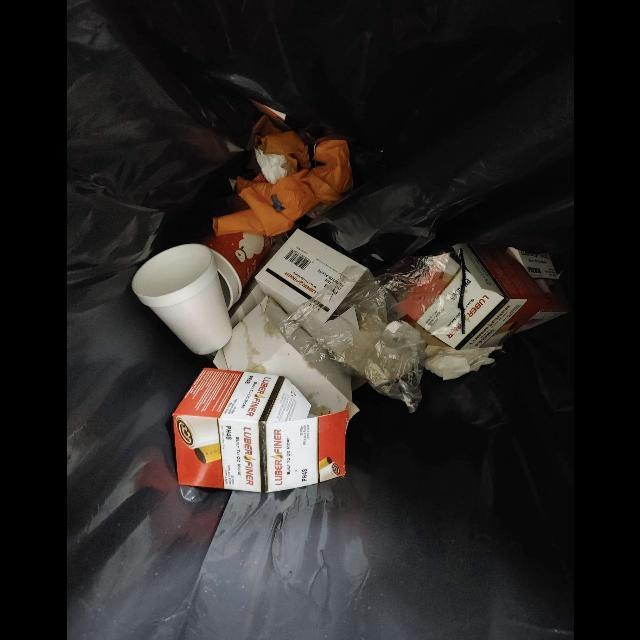cardboard: (171, 368, 348, 493), (213, 285, 358, 418), (399, 244, 549, 351), (254, 229, 367, 363), (506, 247, 568, 332)
plastic_bag: (278, 267, 428, 414)
plastic_container: (199, 231, 288, 311)
